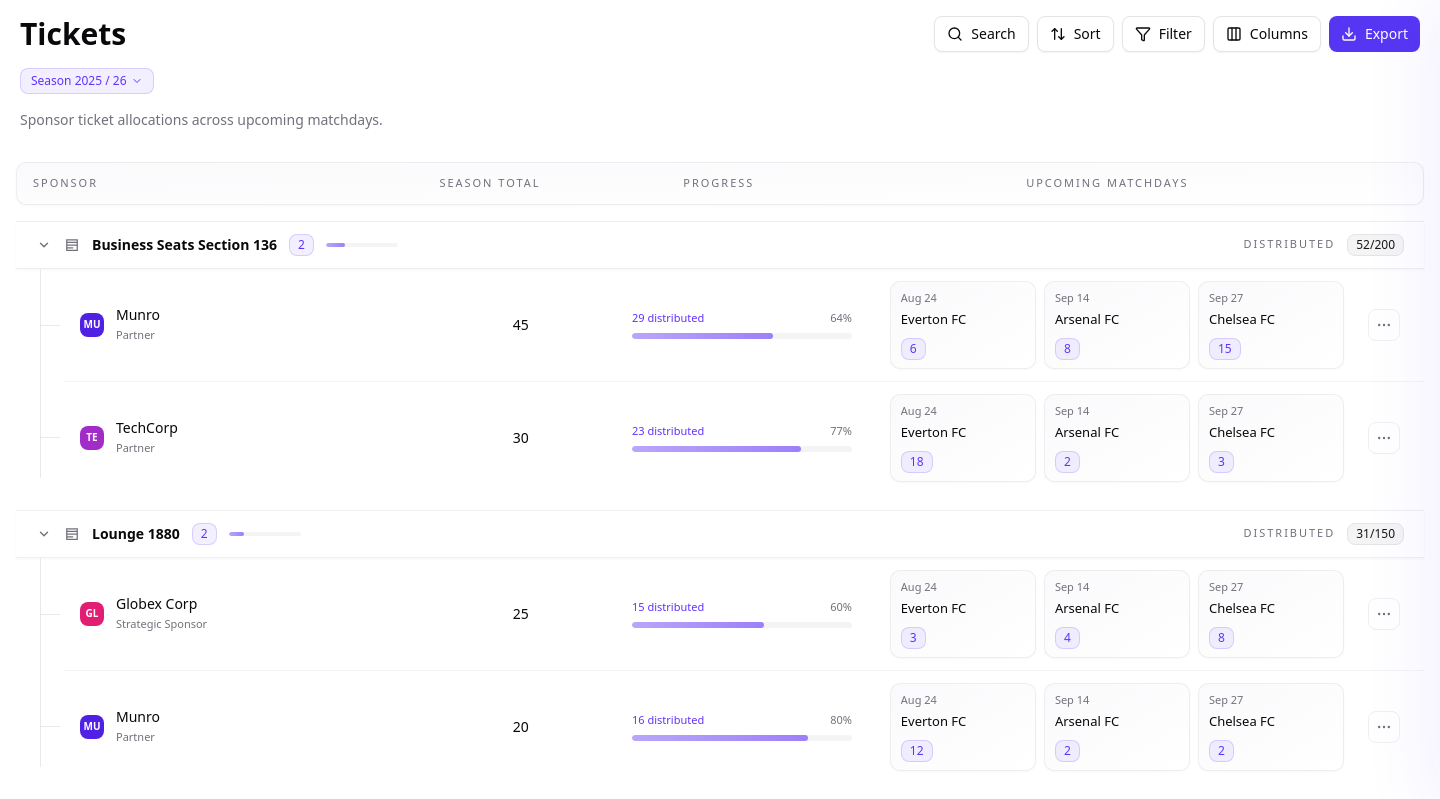
TicketingWehaveioV2Screen › opens the v2 details drawer from a matchday cell and preserves selection state
What coordinates should you click on to do the following:
click the button named "Munro Everton FC details"
I would click on:
 (963, 324)
Its box is [890, 280, 1036, 368].
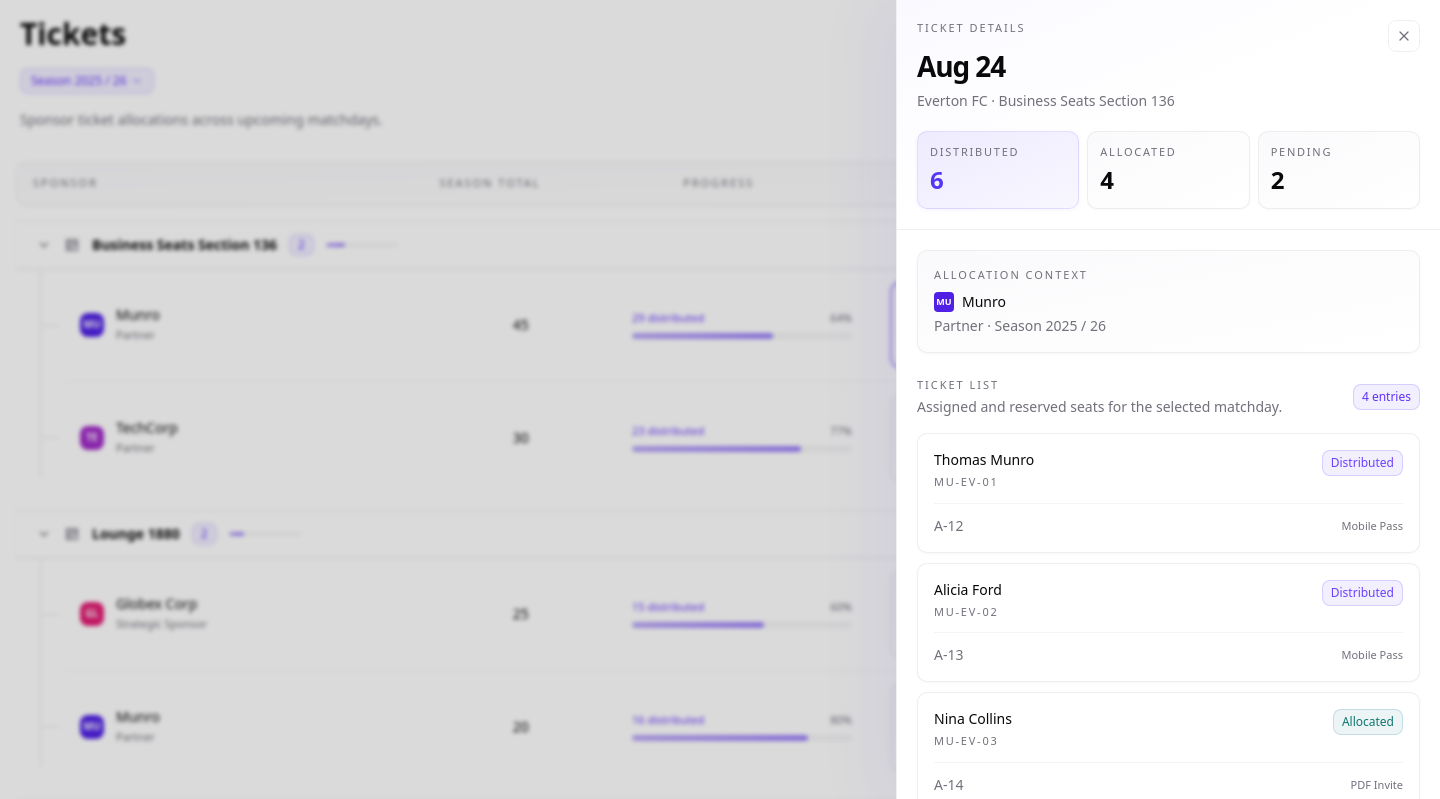
Check: the text "Ticket details" is shown, box [917, 20, 1026, 35]
Check: the text "Assigned and reserved seats for the selected matchday." is shown, box [917, 397, 1282, 417]
Check: the heading "Thomas Munro" is shown, box [934, 450, 1034, 470]
